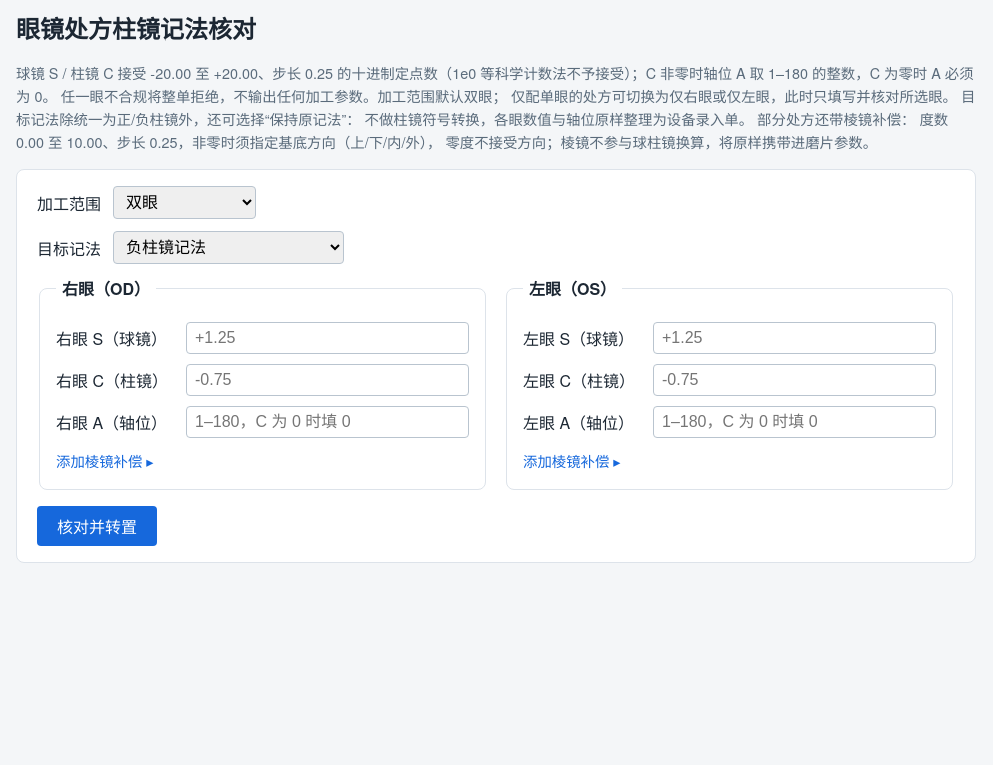
Test: 处方核对页 › 首次提交即 422 时只显示拒绝，不出现任何结果
This screenshot has width=993, height=765.
Type "1.13" into the field labelled "右眼 S（球镜）".
click(328, 338); type("1.13")  # box [186,322,469,354]
Type "0.00" into the field labelled "右眼 C（柱镜）".
click(328, 380); type("0.00")  # box [186,364,469,396]
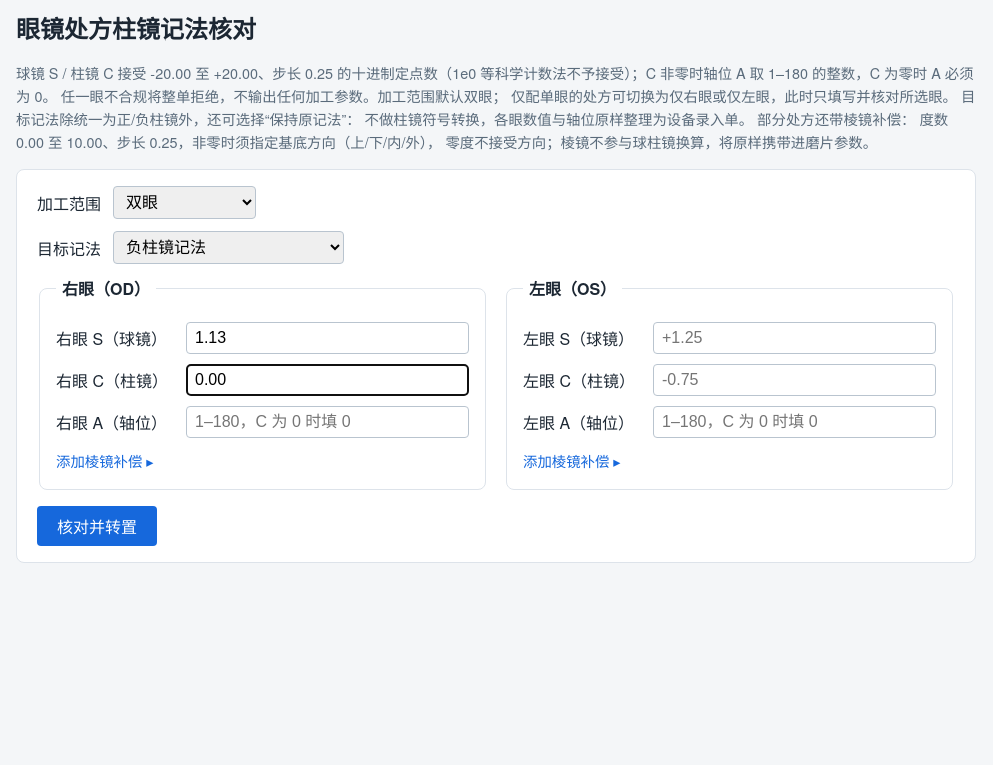
Type "0" into the field labelled "右眼 A（轴位）".
click(328, 422); type("0")  # box [186,406,469,438]
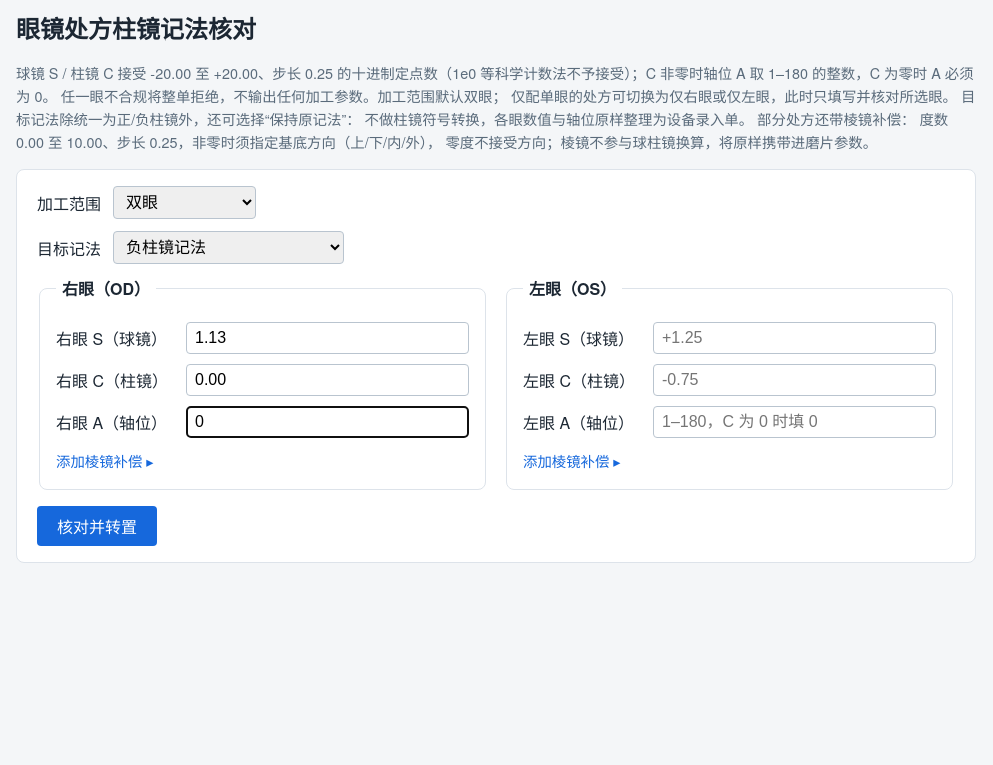
Type "0.00" into the field labelled "左眼 S（球镜）".
click(794, 338); type("0.00")  # box [653,322,936,354]
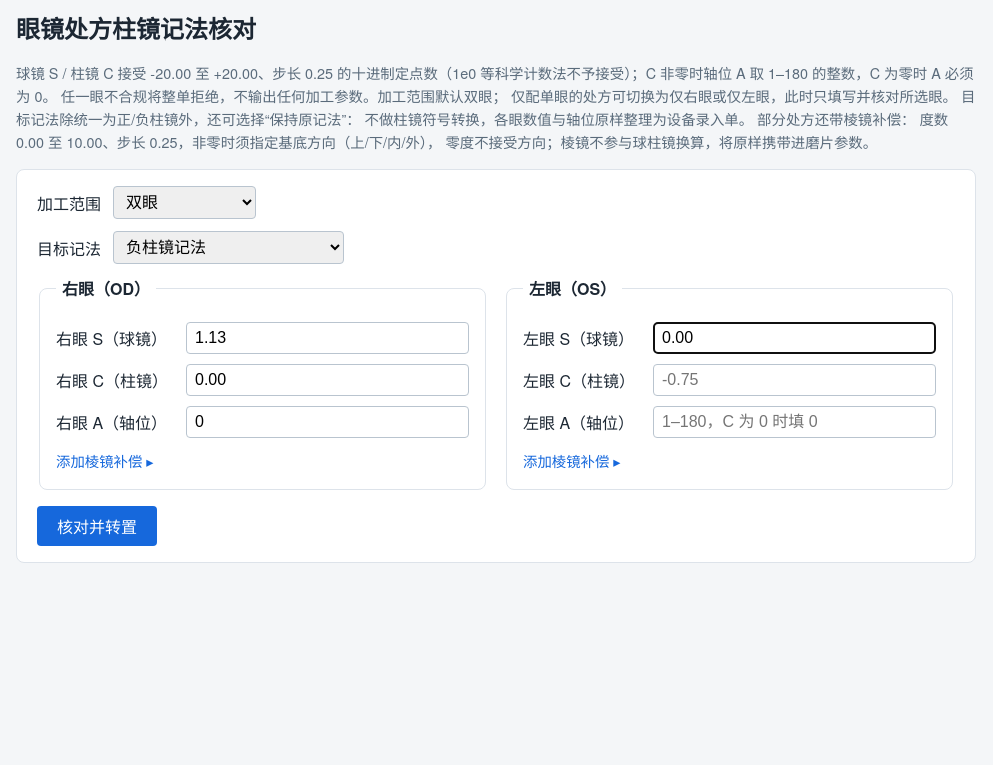
Type "0.00" into the field labelled "左眼 C（柱镜）".
click(794, 380); type("0.00")  # box [653,364,936,396]
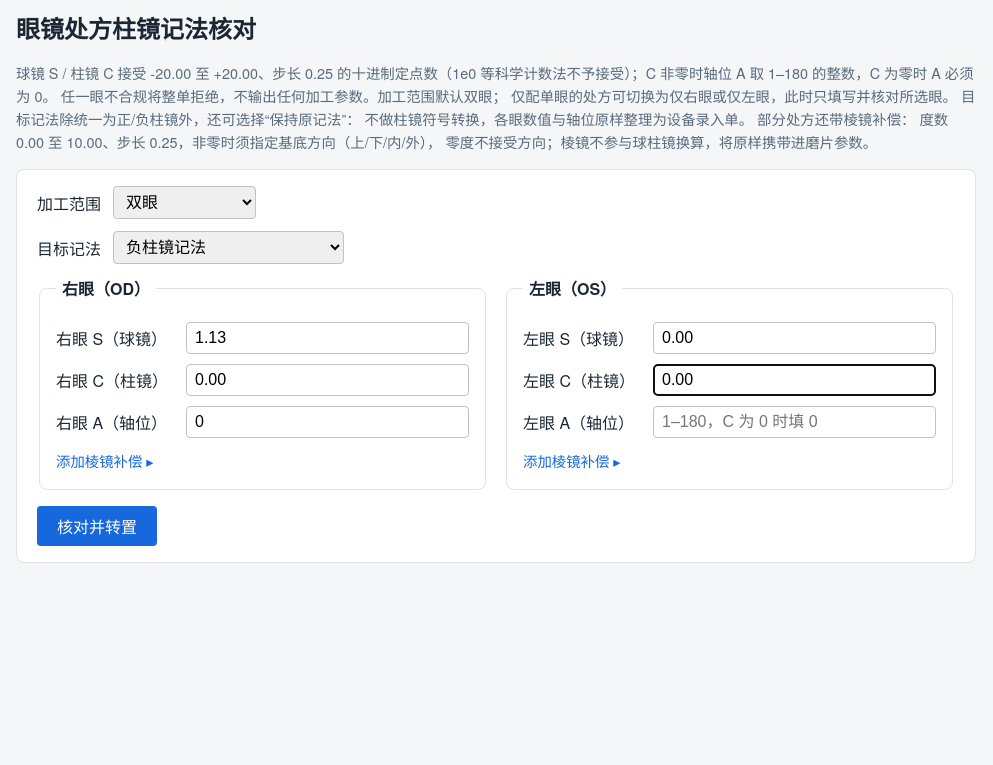
Type "0" into the field labelled "左眼 A（轴位）".
click(794, 422); type("0")  # box [653,406,936,438]
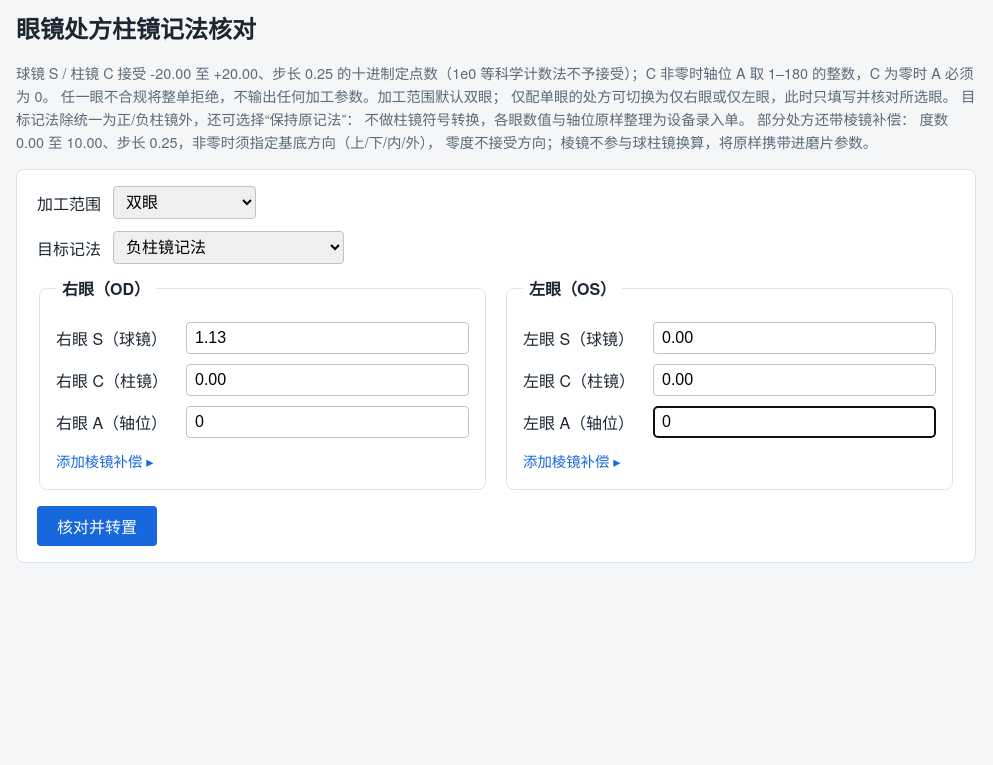
Click the button "核对并转置".
click(97, 526)  # box [37,506,157,546]
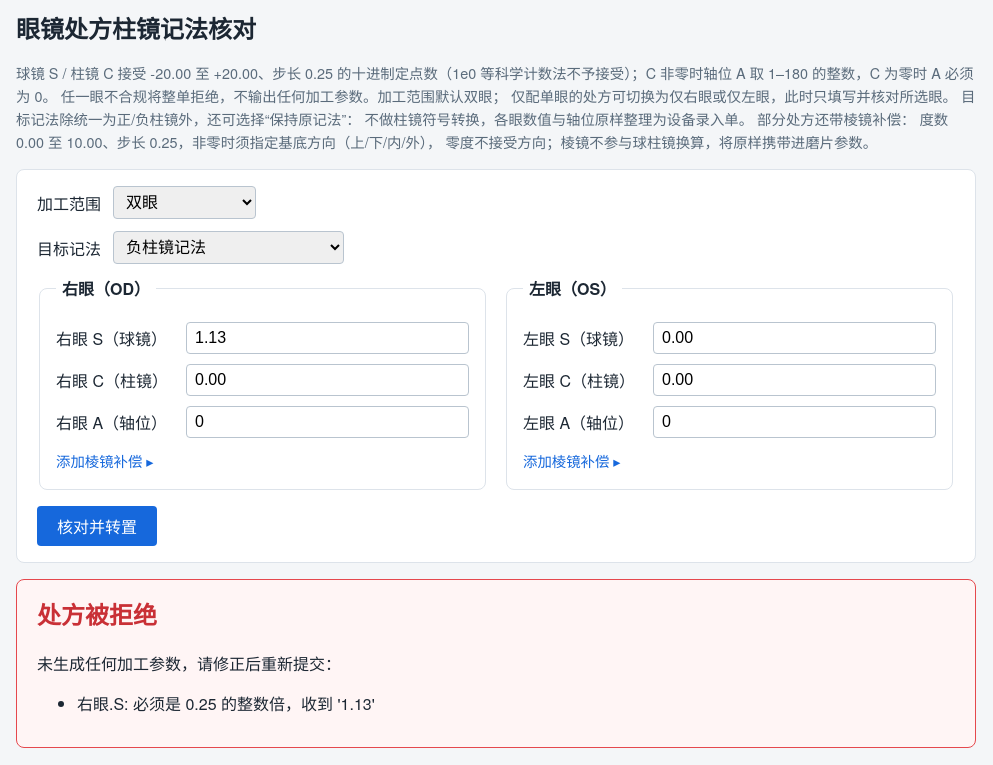
Check: the message shows "右眼.S: 必须是 0.25 的整数倍", box [77,692,375,715]
